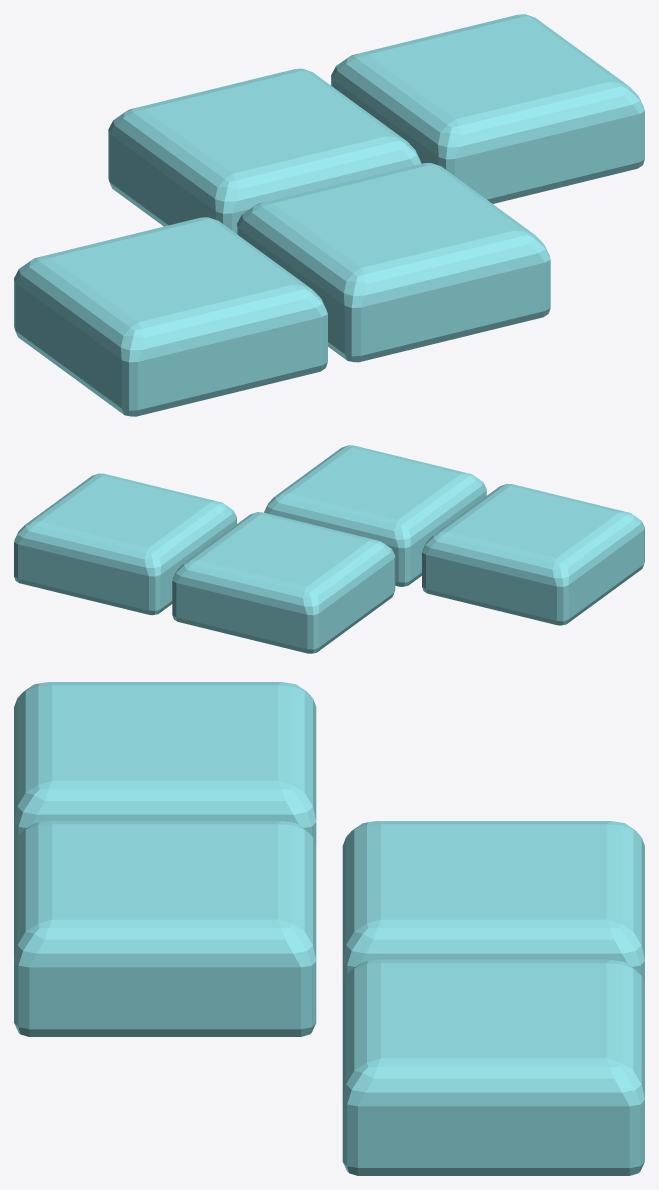
The model's file is KO_Tetris_6.fbx.
The picture shows the model from 3 angles, top to bottom: view 1: azimuth 30°, elevation 25°; view 2: azimuth 150°, elevation 25°; view 3: azimuth 270°, elevation 25°; orthographic projection. The views are drawn at different scales.
Parts seen in each view (by area): view 1: Tetris_S; view 2: Tetris_S; view 3: Tetris_S.
Part boxes in pixels (box(x1,y1,x2,y2)): Tetris_S: box(14, 14, 644, 416); Tetris_S: box(14, 445, 644, 653); Tetris_S: box(14, 682, 644, 1175).
Bounding box in the file's own units: 292 × 36 × 192.
